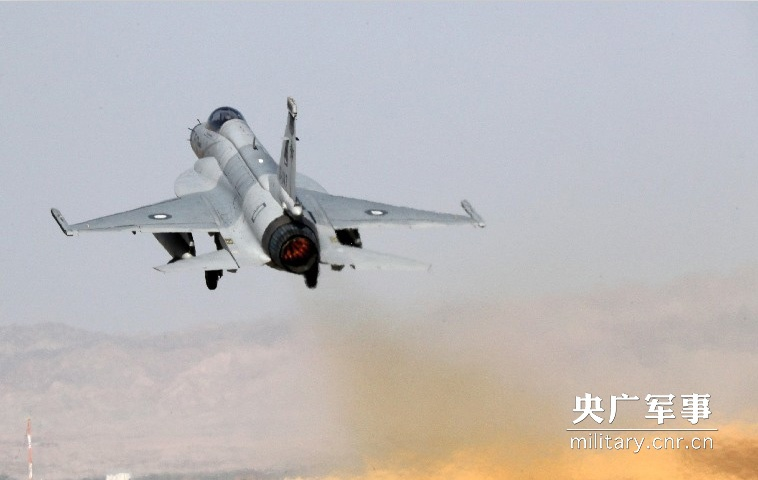airplane: (49, 96, 488, 288)
